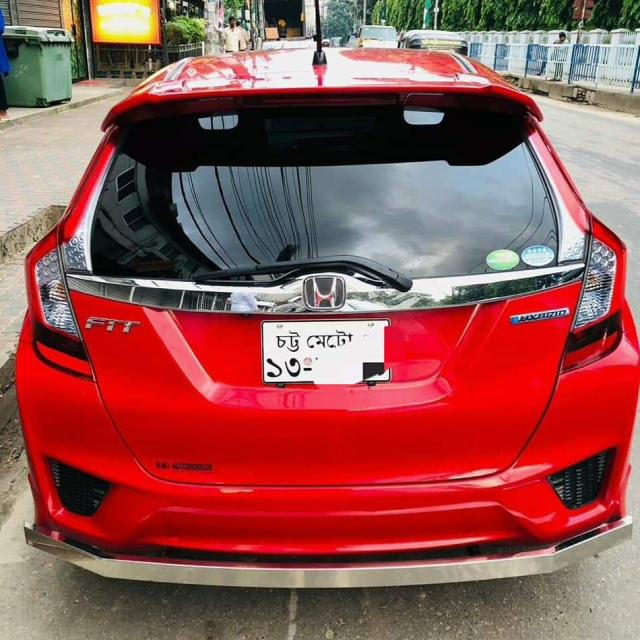red: (5, 44, 640, 590)
